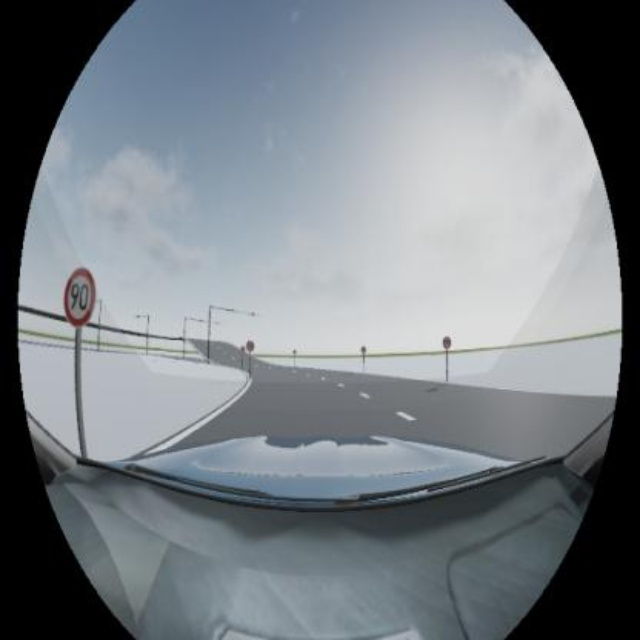Tốc độ tối đa cho phép 90km/h: (65, 267, 95, 325)
